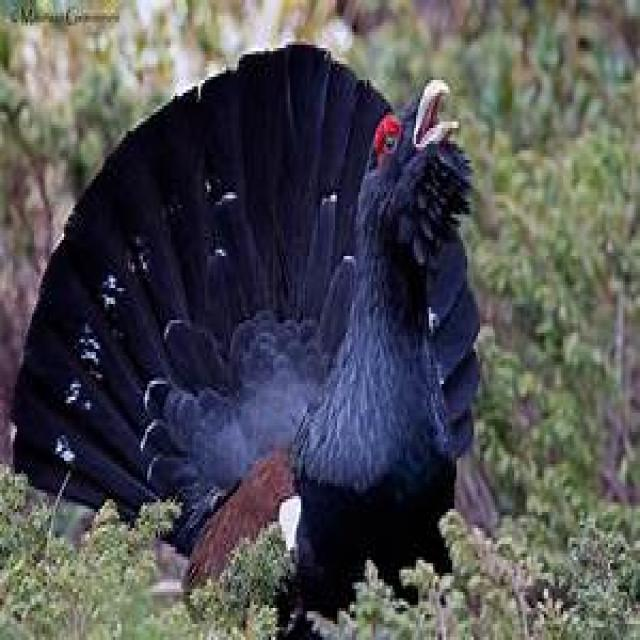animal: (8, 38, 493, 637)
